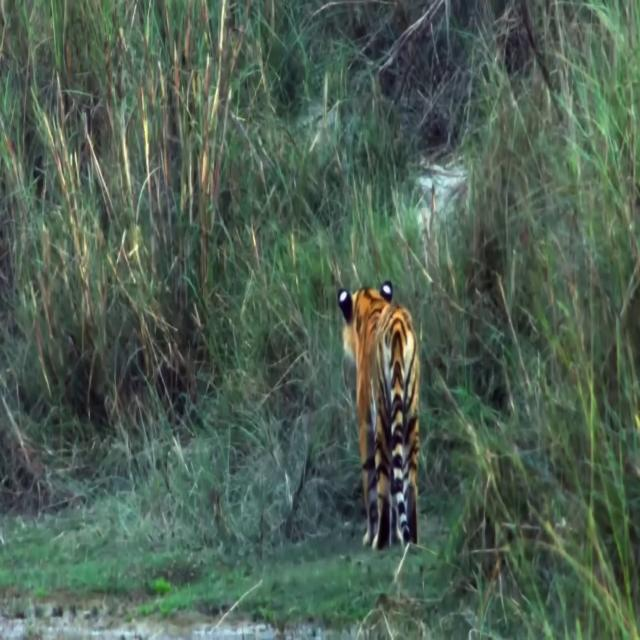tiger: (336, 278, 419, 552)
